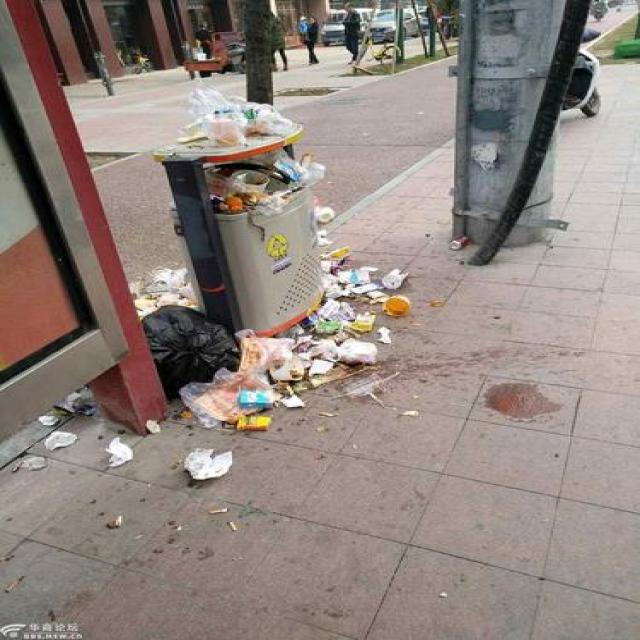garbage: (12, 246, 410, 478)
overflow: (152, 87, 333, 334)
